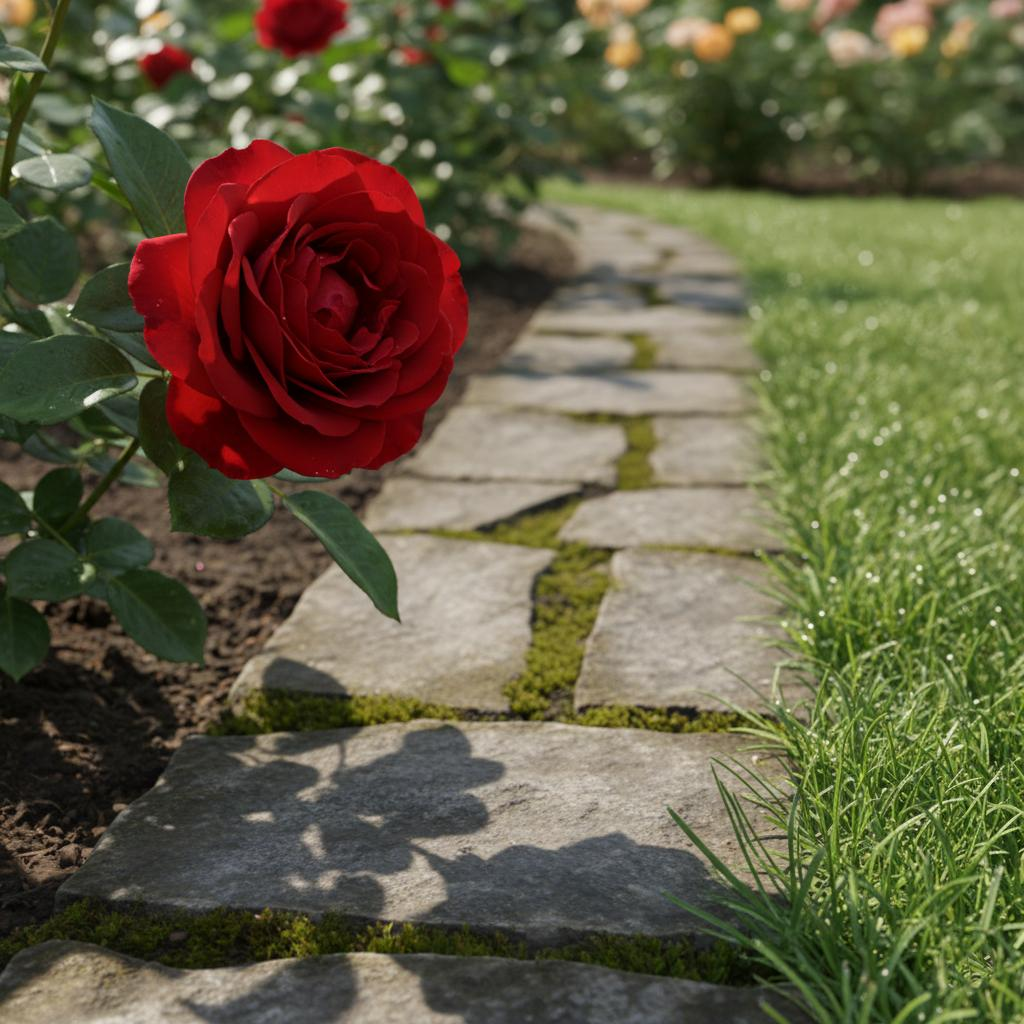rose: (125, 137, 470, 482)
